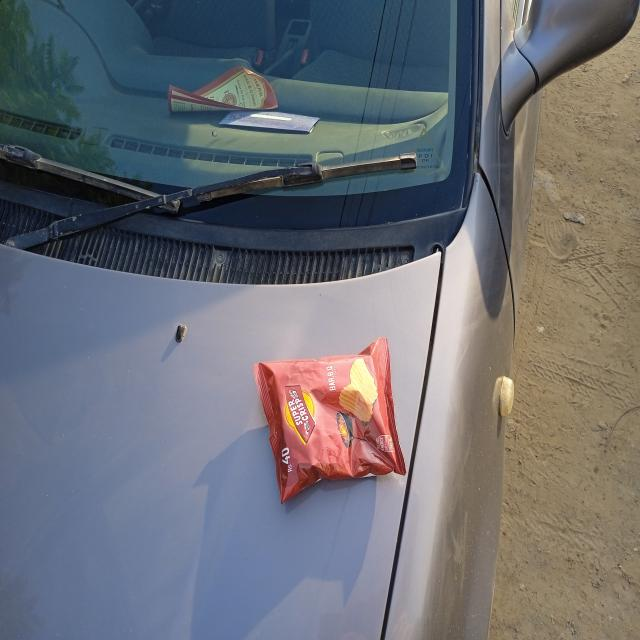Plastic: (255, 338, 408, 500)
